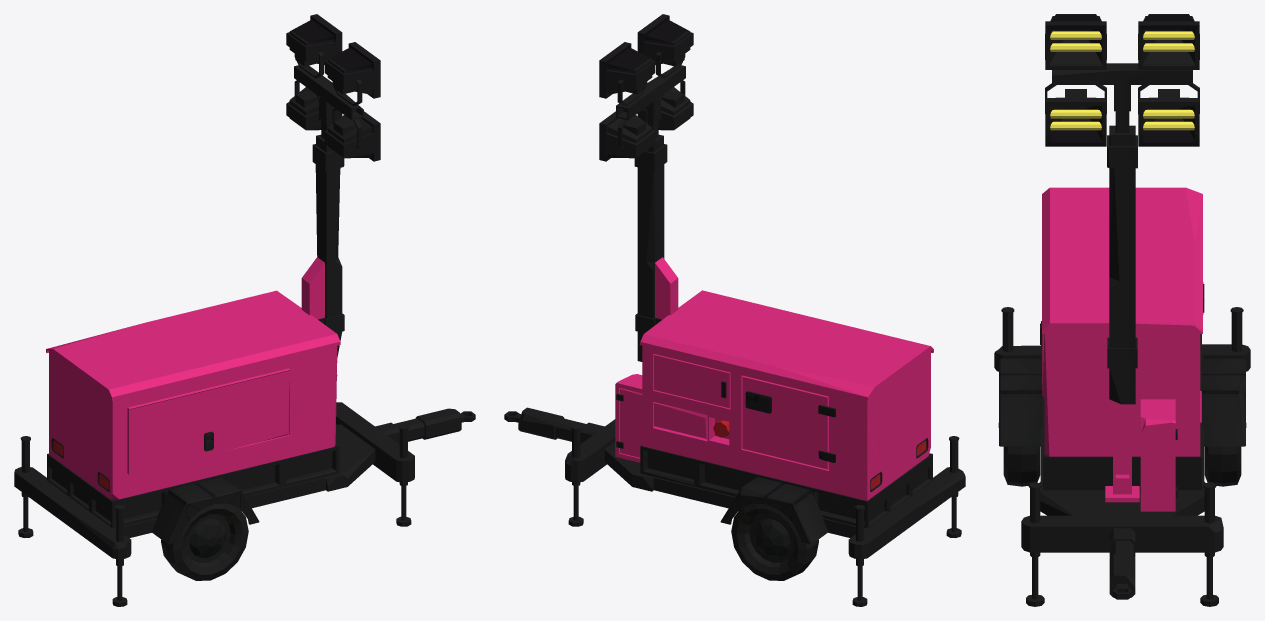
The model's file is Construction_Lights.fbx.
The picture shows the model from 3 angles, left to right: view 1: azimuth 30°, elevation 25°; view 2: azimuth 150°, elevation 25°; view 3: azimuth 270°, elevation 25°; orthographic projection. The views are drawn at different scales.
Parts seen in each view (by area): view 1: SM_City_Construction_Lights_01.mo; view 2: SM_City_Construction_Lights_01.mo; view 3: SM_City_Construction_Lights_01.mo.
Part boxes in pixels (<box>): SM_City_Construction_Lights_01.mo: <box>14,14,475,606</box>; SM_City_Construction_Lights_01.mo: <box>504,14,965,606</box>; SM_City_Construction_Lights_01.mo: <box>994,14,1250,606</box>.
Bounding box in the file's own units: 254 × 275 × 113.
